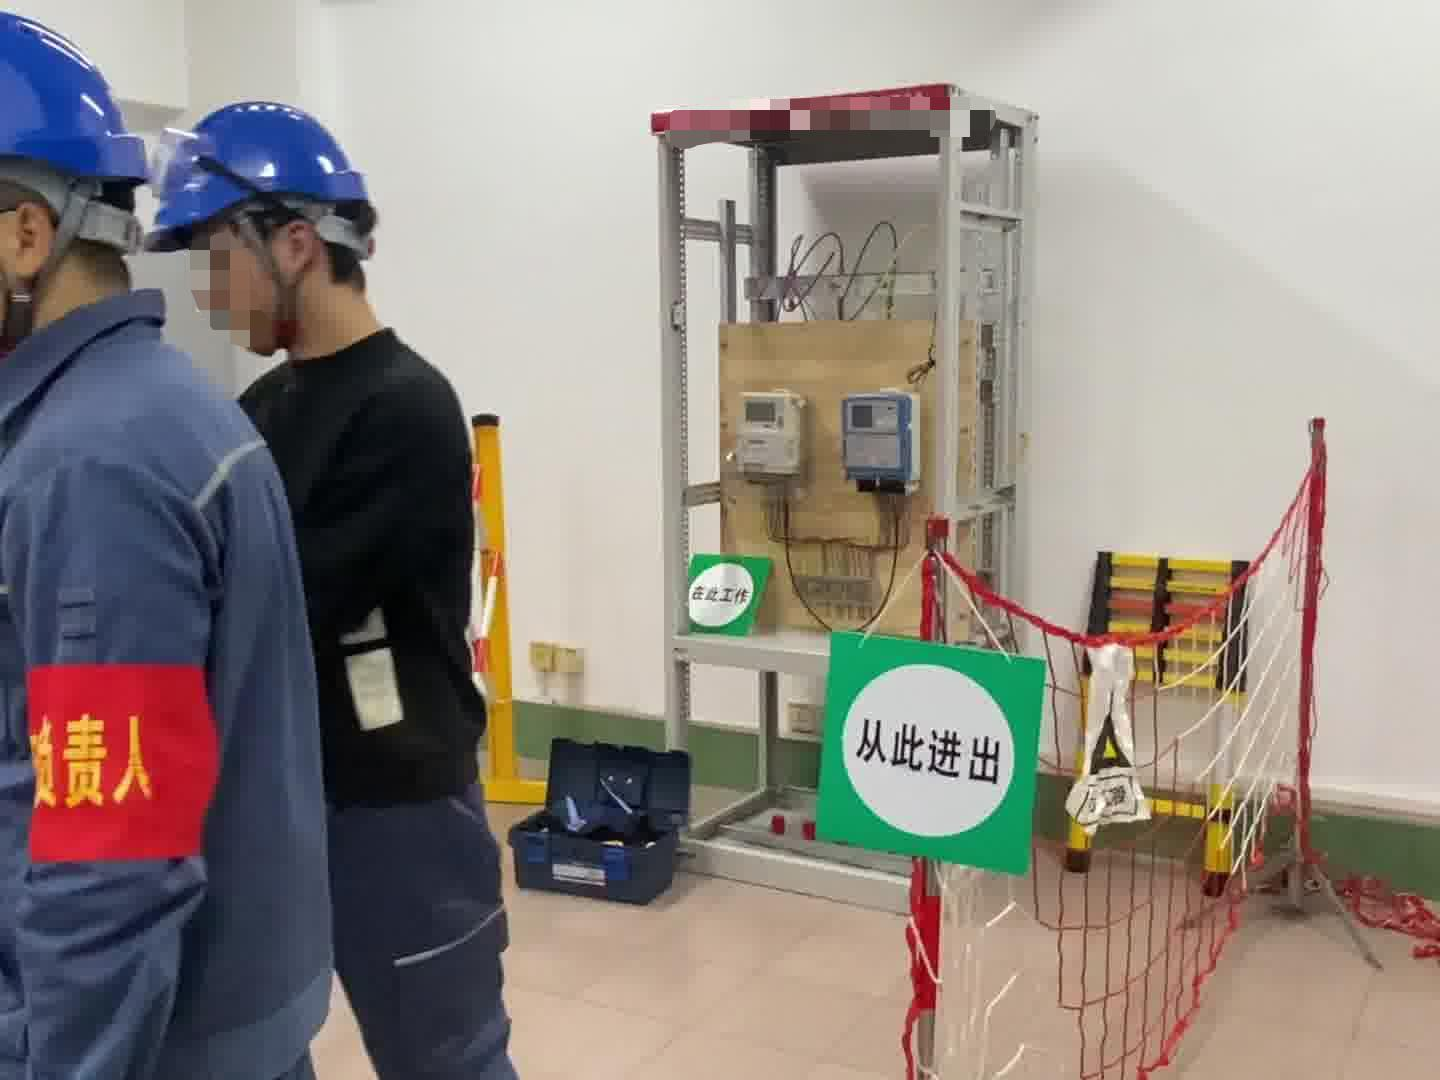halt: (152, 100, 388, 361), (3, 5, 159, 334)
inear: (2, 170, 98, 364), (245, 201, 337, 297)
